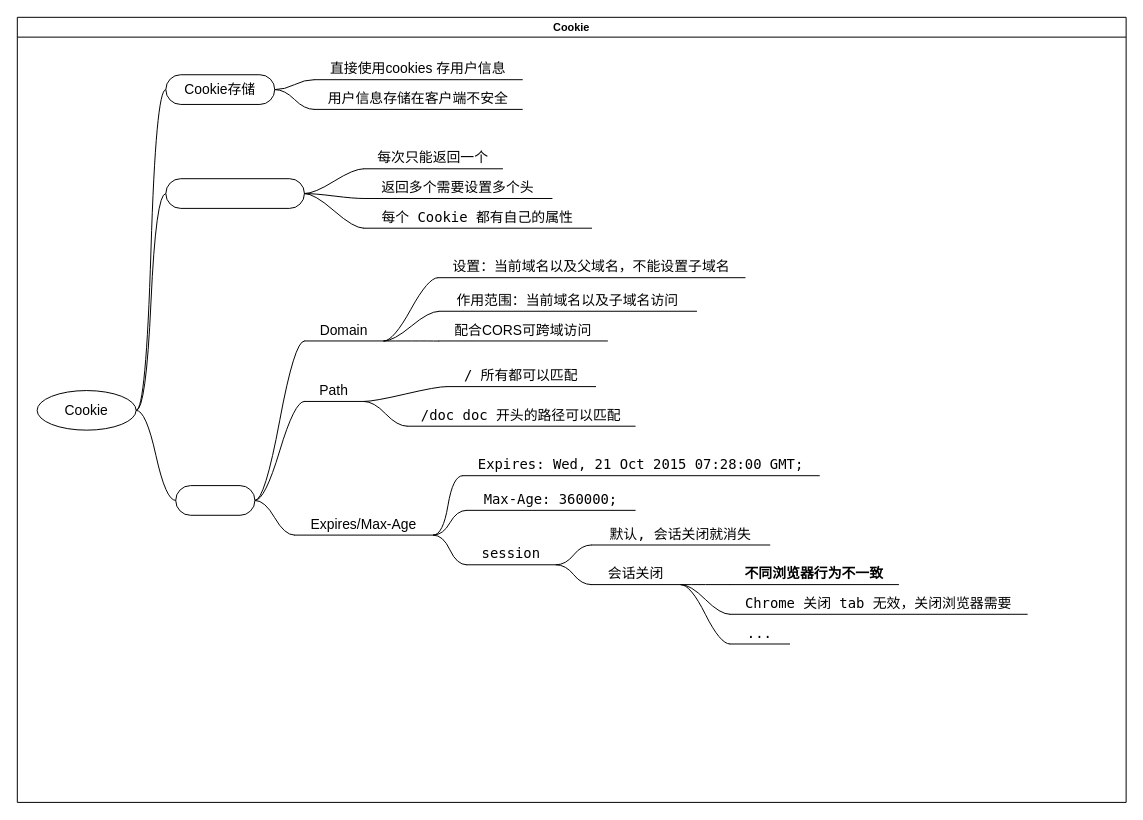
The diagram is 1143 pixels wide and 820 high, and some of its shapes have lost their labels. The shapes that lost their labels are listed below. From the top down, each one's centre as x and y in pixels, then its label:
At point 234,193: "Set-Cookie设置".
At point 215,500: "作用域".
